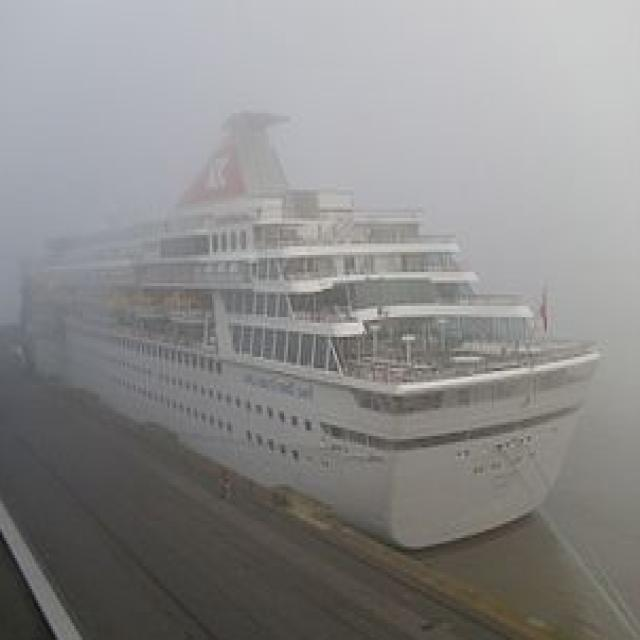passenger ship: (21, 110, 604, 538)
